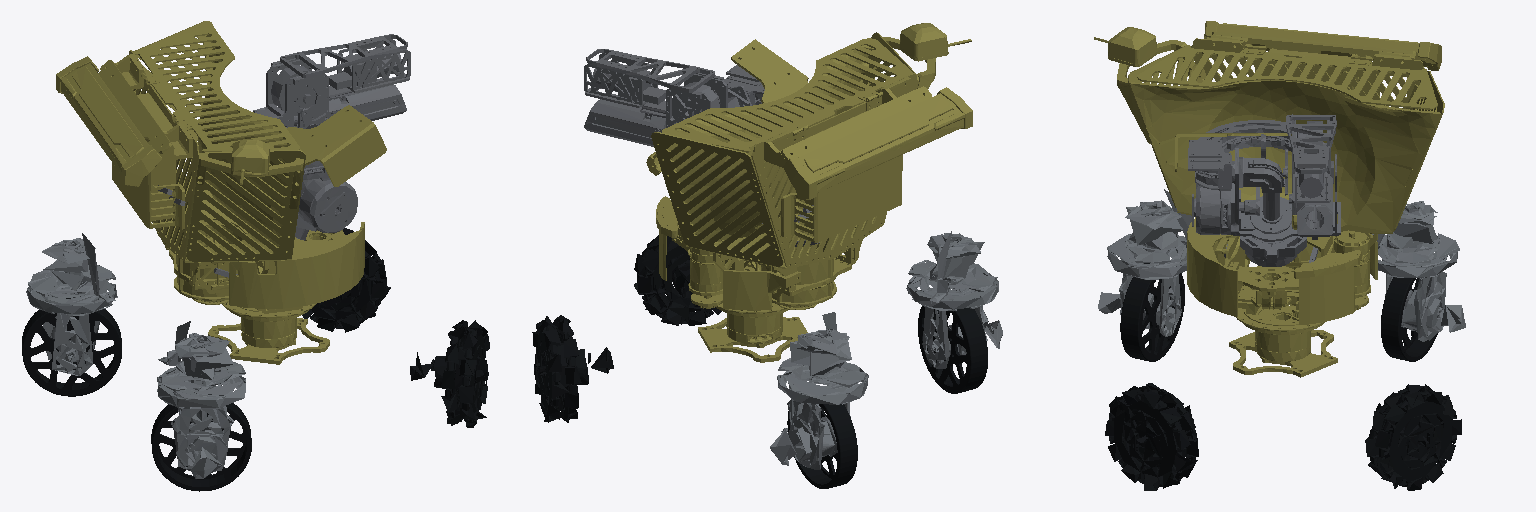
The robot description file, URDF, robot "sentry24":
<?xml version="1.0"?>
<!--
  sentry24: 24-sentry, generated from the CAD by tools/build_sentry_urdf_assets.py
  (Blender) + tools/prepare_sentry_urdf.py.

  Frame: URDF / REP-103 body frame (metres, +X forward, +Y left, +Z up).
  Variant: ROS viewer (mesh visuals carry the Godot->REP-103 rotation).
  The simulator's Phase 5 loader converts every pose and axis to the Godot
  frame; mesh files are authored in the Godot frame (Y up, -Z forward),
  which is why the visual origins are all identity.

  Chain:
    base_link
      -> wheel_front_{left,right}_joint   (continuous, axle)
      -> steer_rear_{left,right}_joint    (revolute about body Z)
           -> wheel_rear_{left,right}_joint (continuous, axle)
      -> gimbal_yaw_joint   (revolute about body Z, big-yaw bearing)
           -> gimbal_yaw_link
                -> gimbal_pitch_joint (revolute about body Y, launcher pitch bearing)
                     -> gimbal_pitch_link
                          -> camera_joint -> camera_link
                               -> camera_optical_joint -> camera_optical_frame
                          -> shot_joint -> shot_direction

  Source CAD: 24哨兵-总装.glb
-->
<robot name="sentry24">

  <material name="body_grey">
    <color rgba="0.52 0.54 0.56 1.0"/>
  </material>
  <material name="steer_grey">
    <color rgba="0.45 0.47 0.49 1.0"/>
  </material>
  <material name="rubber_black">
    <color rgba="0.10 0.11 0.12 1.0"/>
  </material>
  <material name="team_yellow">
    <color rgba="0.55 0.53 0.30 1.0"/>
  </material>
  <material name="head_dark">
    <color rgba="0.42 0.43 0.45 1.0"/>
  </material>

  <link name="base_link">
    <inertial>
      <origin xyz="0 0 0" rpy="0 0 0"/>
      <mass value="12.0000"/>
      <inertia ixx="0.403406" ixy="0" ixz="0" iyy="0.577738" iyz="0" izz="0.273394"/>
    </inertial>
    <visual name="base_link_visual">
      <origin xyz="0 0 0" rpy="1.5707963268 0 -1.5707963268"/>
      <geometry>
        <mesh filename="meshes/base_link.obj" scale="1 1 1"/>
      </geometry>
      <material name="body_grey"/>
    </visual>
  </link>

  <link name="wheel_front_left">
    <inertial>
      <origin xyz="0 0 0" rpy="0 0 0"/>
      <mass value="0.8000"/>
      <inertia ixx="0.002006" ixy="0" ixz="0" iyy="0.001749" iyz="0" izz="0.002029"/>
    </inertial>
    <visual name="wheel_front_left_visual">
      <origin xyz="0 0 0" rpy="1.5707963268 0 -1.5707963268"/>
      <geometry>
        <mesh filename="meshes/wheel_front_left.obj" scale="1 1 1"/>
      </geometry>
      <material name="rubber_black"/>
    </visual>
  </link>

  <link name="wheel_front_right">
    <inertial>
      <origin xyz="0 0 0" rpy="0 0 0"/>
      <mass value="0.8000"/>
      <inertia ixx="0.001945" ixy="0" ixz="0" iyy="0.001641" iyz="0" izz="0.001988"/>
    </inertial>
    <visual name="wheel_front_right_visual">
      <origin xyz="0 0 0" rpy="1.5707963268 0 -1.5707963268"/>
      <geometry>
        <mesh filename="meshes/wheel_front_right.obj" scale="1 1 1"/>
      </geometry>
      <material name="rubber_black"/>
    </visual>
  </link>

  <link name="steer_rear_left">
    <inertial>
      <origin xyz="0 0 0" rpy="0 0 0"/>
      <mass value="0.9000"/>
      <inertia ixx="0.003483" ixy="0" ixz="0" iyy="0.002243" iyz="0" izz="0.003924"/>
    </inertial>
    <visual name="steer_rear_left_visual">
      <origin xyz="0 0 0" rpy="1.5707963268 0 -1.5707963268"/>
      <geometry>
        <mesh filename="meshes/steer_rear_left.obj" scale="1 1 1"/>
      </geometry>
      <material name="steer_grey"/>
    </visual>
  </link>

  <link name="steer_rear_right">
    <inertial>
      <origin xyz="0 0 0" rpy="0 0 0"/>
      <mass value="0.9000"/>
      <inertia ixx="0.003535" ixy="0" ixz="0" iyy="0.002291" iyz="0" izz="0.004008"/>
    </inertial>
    <visual name="steer_rear_right_visual">
      <origin xyz="0 0 0" rpy="1.5707963268 0 -1.5707963268"/>
      <geometry>
        <mesh filename="meshes/steer_rear_right.obj" scale="1 1 1"/>
      </geometry>
      <material name="steer_grey"/>
    </visual>
  </link>

  <link name="wheel_rear_left">
    <inertial>
      <origin xyz="0 0 0" rpy="0 0 0"/>
      <mass value="0.6000"/>
      <inertia ixx="0.001399" ixy="0" ixz="0" iyy="0.000979" iyz="0" izz="0.001015"/>
    </inertial>
    <visual name="wheel_rear_left_visual">
      <origin xyz="0 0 0" rpy="1.5707963268 0 -1.5707963268"/>
      <geometry>
        <mesh filename="meshes/wheel_rear_left.obj" scale="1 1 1"/>
      </geometry>
      <material name="rubber_black"/>
    </visual>
  </link>

  <link name="wheel_rear_right">
    <inertial>
      <origin xyz="0 0 0" rpy="0 0 0"/>
      <mass value="0.6000"/>
      <inertia ixx="0.001399" ixy="0" ixz="0" iyy="0.000979" iyz="0" izz="0.001016"/>
    </inertial>
    <visual name="wheel_rear_right_visual">
      <origin xyz="0 0 0" rpy="1.5707963268 0 -1.5707963268"/>
      <geometry>
        <mesh filename="meshes/wheel_rear_right.obj" scale="1 1 1"/>
      </geometry>
      <material name="rubber_black"/>
    </visual>
  </link>

  <link name="gimbal_yaw_link">
    <inertial>
      <origin xyz="0 0 0" rpy="0 0 0"/>
      <mass value="3.0000"/>
      <inertia ixx="0.066849" ixy="0" ixz="0" iyy="0.077181" iyz="0" izz="0.076983"/>
    </inertial>
    <visual name="gimbal_yaw_link_visual">
      <origin xyz="0 0 0" rpy="1.5707963268 0 -1.5707963268"/>
      <geometry>
        <mesh filename="meshes/gimbal_yaw_link.obj" scale="1 1 1"/>
      </geometry>
      <material name="team_yellow"/>
    </visual>
  </link>

  <link name="gimbal_pitch_link">
    <inertial>
      <origin xyz="0 0 0" rpy="0 0 0"/>
      <mass value="1.6000"/>
      <inertia ixx="0.025422" ixy="0" ixz="0" iyy="0.025607" iyz="0" izz="0.013411"/>
    </inertial>
    <visual name="gimbal_pitch_link_visual">
      <origin xyz="0 0 0" rpy="1.5707963268 0 -1.5707963268"/>
      <geometry>
        <mesh filename="meshes/gimbal_pitch_link.obj" scale="1 1 1"/>
      </geometry>
      <material name="head_dark"/>
    </visual>
  </link>

  <link name="camera_link"/>
  <link name="camera_optical_frame"/>
  <link name="shot_direction"/>

  <joint name="wheel_front_left_joint" type="continuous">
    <parent link="base_link"/>
    <child link="wheel_front_left"/>
    <origin xyz="0.185226 0.155006 0.065050" rpy="0 0 0"/>
    <axis xyz="0.000000 -1.000000 0.000000"/>
  </joint>

  <joint name="wheel_front_right_joint" type="continuous">
    <parent link="base_link"/>
    <child link="wheel_front_right"/>
    <origin xyz="0.185226 -0.155006 0.065050" rpy="0 0 0"/>
    <axis xyz="0.000000 -1.000000 0.000000"/>
  </joint>

  <joint name="steer_rear_left_joint" type="revolute">
    <parent link="base_link"/>
    <child link="steer_rear_left"/>
    <origin xyz="-0.175000 0.153399 0.128478" rpy="0 0 0"/>
    <axis xyz="-0.000000 -0.000000 1.000000"/>
    <limit lower="-3.141590" upper="3.141590" effort="5.0" velocity="3.0"/>
  </joint>

  <joint name="wheel_rear_left_joint" type="continuous">
    <parent link="steer_rear_left"/>
    <child link="wheel_rear_left"/>
    <origin xyz="0.000000 0.001601 -0.068500" rpy="0 0 0"/>
    <axis xyz="0.000000 -1.000000 0.000000"/>
  </joint>

  <joint name="steer_rear_right_joint" type="revolute">
    <parent link="base_link"/>
    <child link="steer_rear_right"/>
    <origin xyz="-0.175000 -0.153399 0.128478" rpy="0 0 0"/>
    <axis xyz="-0.000000 -0.000000 1.000000"/>
    <limit lower="-3.141590" upper="3.141590" effort="5.0" velocity="3.0"/>
  </joint>

  <joint name="wheel_rear_right_joint" type="continuous">
    <parent link="steer_rear_right"/>
    <child link="wheel_rear_right"/>
    <origin xyz="0.000000 -0.001601 -0.068500" rpy="0 0 0"/>
    <axis xyz="0.000000 -1.000000 0.000000"/>
  </joint>

  <joint name="gimbal_yaw_joint" type="revolute">
    <parent link="base_link"/>
    <child link="gimbal_yaw_link"/>
    <origin xyz="0.007531 0.000321 0.139978" rpy="0 0 0"/>
    <axis xyz="-0.000000 -0.000000 1.000000"/>
    <limit lower="-3.141590" upper="3.141590" effort="5.0" velocity="3.0"/>
  </joint>

  <joint name="gimbal_pitch_joint" type="revolute">
    <parent link="gimbal_yaw_link"/>
    <child link="gimbal_pitch_link"/>
    <origin xyz="0.059615 -0.029985 0.215000" rpy="0 0 0"/>
    <axis xyz="0.000000 1.000000 0.000000"/>
    <limit lower="-0.523600" upper="0.523600" effort="5.0" velocity="3.0"/>
  </joint>

  <joint name="camera_joint" type="fixed">
    <parent link="gimbal_pitch_link"/>
    <child link="camera_link"/>
    <origin xyz="0.136730 0.063570 0.043224" rpy="0 0 0"/>
  </joint>

  <joint name="camera_optical_joint" type="fixed">
    <parent link="camera_link"/>
    <child link="camera_optical_frame"/>
    <origin xyz="0.000000 0.000000 0.000000" rpy="-1.570796 0.000000 -1.570796"/>
  </joint>

  <joint name="shot_joint" type="fixed">
    <parent link="gimbal_pitch_link"/>
    <child link="shot_direction"/>
    <origin xyz="0.117980 0.063570 -0.000317" rpy="0 0 0"/>
  </joint>

</robot>

--- Facts derived from the render (not from the file) ---
Views: 3 orthographic renders of the robot side by side, from view 1: azimuth 30°, elevation 25°; view 2: azimuth 150°, elevation 25°; view 3: azimuth 270°, elevation 25°.
Robot: sentry24 — 12 links, 11 joints (4 revolute, 4 continuous, 3 fixed); root link base_link; default pose: every joint at zero.
Links seen in each view (by area): view 1: gimbal_yaw_link, gimbal_pitch_link, steer_rear_right, steer_rear_left, wheel_front_right, wheel_rear_left, wheel_front_left, wheel_rear_right; view 2: gimbal_yaw_link, gimbal_pitch_link, steer_rear_left, steer_rear_right, wheel_front_left, wheel_front_right, wheel_rear_right, wheel_rear_left; view 3: gimbal_yaw_link, gimbal_pitch_link, wheel_front_right, wheel_front_left, steer_rear_left, steer_rear_right, wheel_rear_right, wheel_rear_left.
Boxes of the visible links, bbox=[...] form: gimbal_yaw_link: bbox=[56, 21, 386, 364]; gimbal_pitch_link: bbox=[158, 34, 410, 277]; steer_rear_right: bbox=[157, 321, 245, 478]; steer_rear_left: bbox=[26, 233, 117, 375]; wheel_front_right: bbox=[410, 320, 489, 427]; wheel_rear_left: bbox=[22, 298, 121, 396]; wheel_front_left: bbox=[302, 228, 390, 332]; wheel_rear_right: bbox=[151, 403, 251, 491]; gimbal_yaw_link: bbox=[646, 23, 972, 362]; gimbal_pitch_link: bbox=[584, 49, 819, 246]; steer_rear_left: bbox=[770, 312, 868, 469]; steer_rear_right: bbox=[906, 231, 1002, 368]; wheel_front_left: bbox=[532, 315, 613, 422]; wheel_front_right: bbox=[634, 235, 721, 325]; wheel_rear_right: bbox=[918, 306, 987, 393]; wheel_rear_left: bbox=[787, 404, 857, 488]; gimbal_yaw_link: bbox=[1094, 21, 1444, 377]; gimbal_pitch_link: bbox=[1188, 114, 1340, 266]; wheel_front_right: bbox=[1105, 383, 1198, 490]; wheel_front_left: bbox=[1365, 384, 1461, 490]; steer_rear_left: bbox=[1372, 201, 1465, 341]; steer_rear_right: bbox=[1098, 189, 1191, 336]; wheel_rear_right: bbox=[1120, 263, 1184, 361]; wheel_rear_left: bbox=[1381, 277, 1437, 361].
Size in the robot's own frame: 0.4854 by 0.4435 by 0.4535 metres.
Meshes: 9 distinct files referenced, 8 mesh visuals loaded (8 OBJ); not drawn: 1 (reference not matched to a file when rendering).
